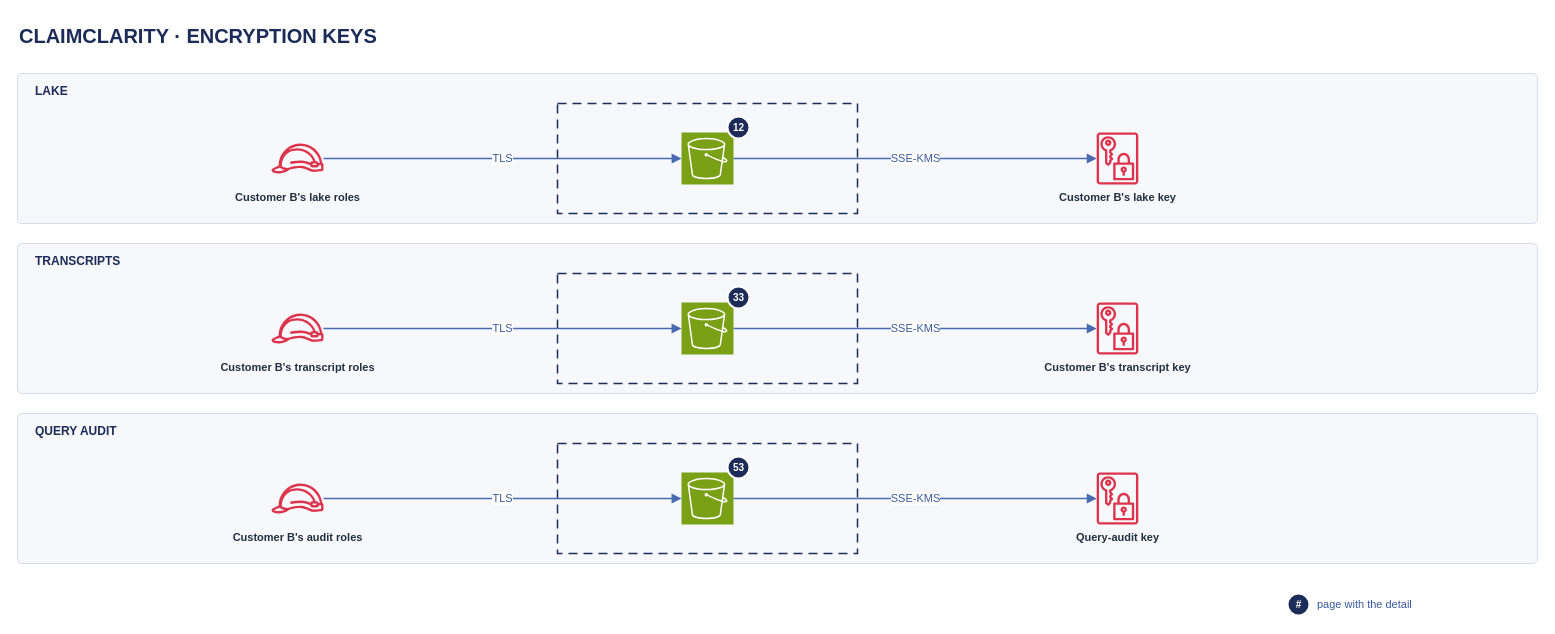
The diagram is 1555 pixels wide and 634 high, and some of its shapes have lost their labels. The shapes that lost their labels are listed below. From the top down, each one's centre as x and y in pixels, then its label:
At [707,158]: "S3 · B's raw, silver, gold".
At [707,328]: "S3 · B's transcripts".
At [707,498]: "S3 · B's query audit".
